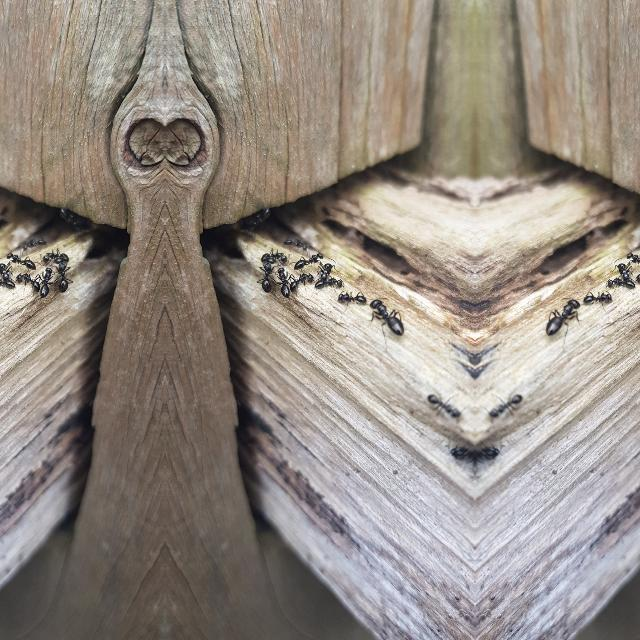Colobopsis: (542, 284, 584, 346), (366, 284, 406, 346), (487, 377, 528, 428), (422, 377, 462, 428), (240, 202, 280, 236), (48, 202, 88, 236), (448, 429, 474, 479), (475, 429, 501, 479), (256, 248, 274, 300), (54, 248, 72, 300), (14, 264, 41, 296), (288, 264, 314, 296), (37, 262, 54, 304), (274, 262, 290, 304), (312, 255, 334, 281), (615, 255, 637, 281), (282, 237, 310, 255), (18, 237, 46, 255), (312, 276, 343, 292), (336, 290, 366, 306), (583, 290, 613, 306), (606, 276, 636, 292), (0, 255, 16, 281), (624, 242, 640, 266), (269, 243, 287, 264), (41, 243, 59, 264), (308, 244, 324, 266), (4, 244, 20, 266), (0, 275, 14, 290), (634, 264, 640, 294)
